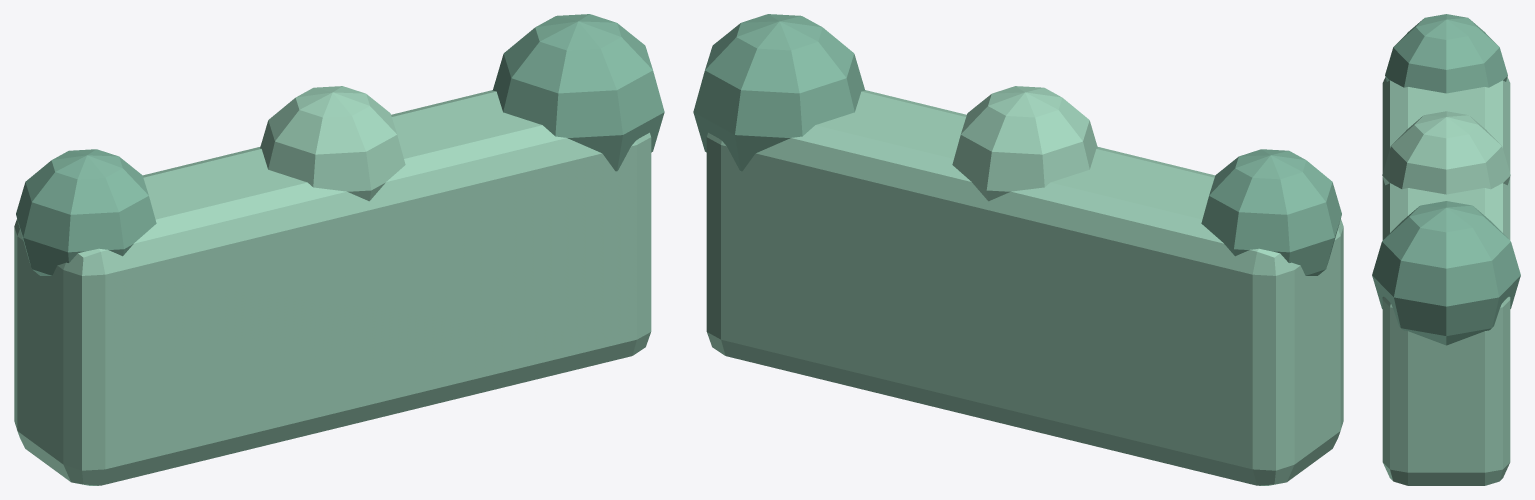
The model's file is kit_hedge.glb.
The picture shows the model from 3 angles, left to right: view 1: azimuth 30°, elevation 25°; view 2: azimuth 150°, elevation 25°; view 3: azimuth 270°, elevation 25°; orthographic projection. The views are drawn at different scales.
Parts seen in each view (by area): view 1: kit_hedge.001; view 2: kit_hedge.001; view 3: kit_hedge.001.
Part boxes in pixels (bbox=[...]): kit_hedge.001: bbox=[14, 14, 664, 485]; kit_hedge.001: bbox=[693, 14, 1343, 485]; kit_hedge.001: bbox=[1372, 14, 1520, 485].
Size of the model in its own units: 2.38 by 1.16 by 0.5822.
